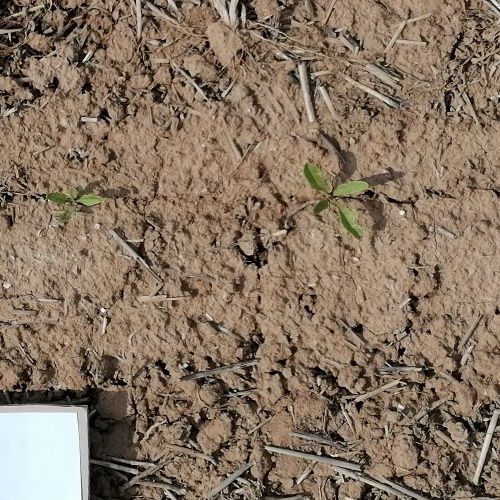beet: (303, 163, 368, 241), (47, 188, 103, 221)
